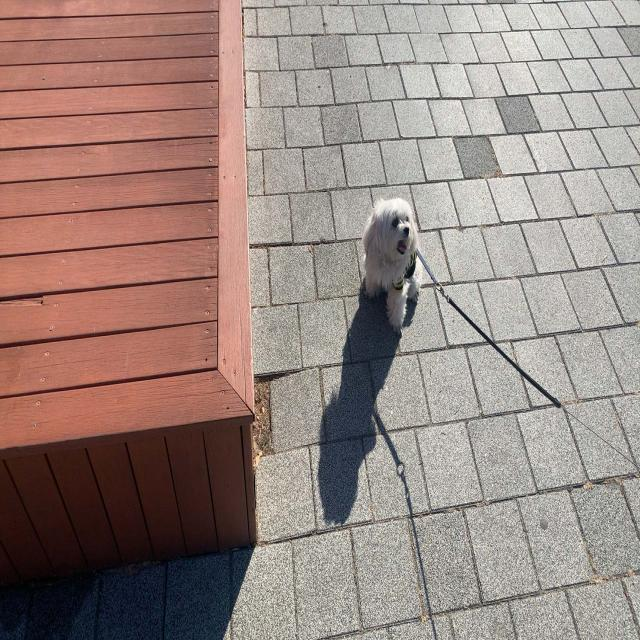Dog: (362, 198, 423, 339)
